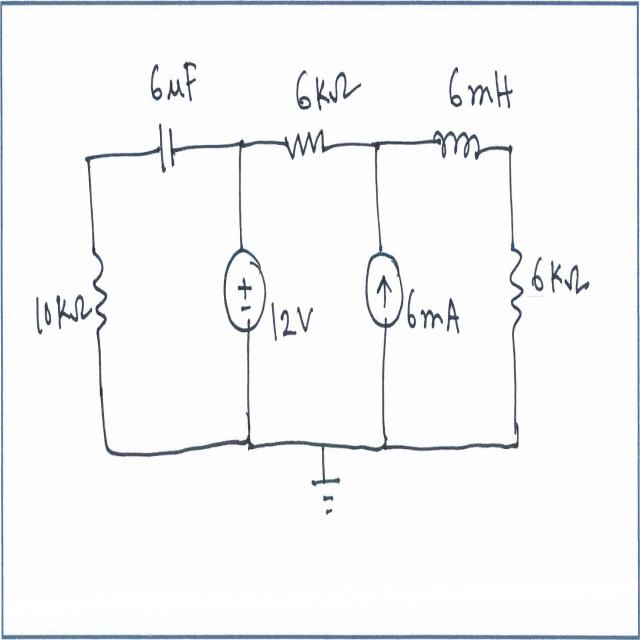capacitor: (156, 112, 177, 177)
current_source: (363, 248, 408, 334)
ground: (303, 474, 348, 529)
inductor: (431, 120, 486, 169)
resistor: (504, 225, 527, 342), (88, 244, 114, 337), (284, 125, 326, 177)
voltage_source: (223, 240, 268, 340)
